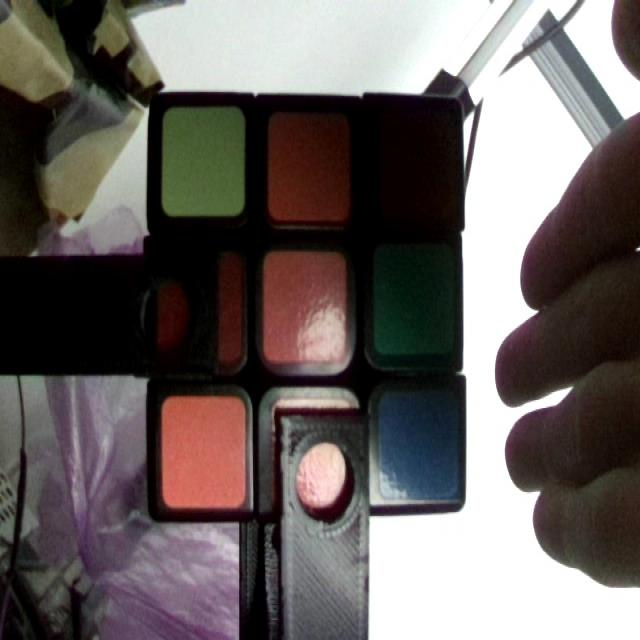b: (383, 393, 458, 498)
g: (373, 248, 450, 355)
o: (161, 401, 244, 512), (270, 408, 354, 517), (266, 252, 349, 360), (270, 113, 350, 220)
r: (154, 252, 244, 361), (387, 111, 459, 216)
y: (165, 108, 242, 215)
